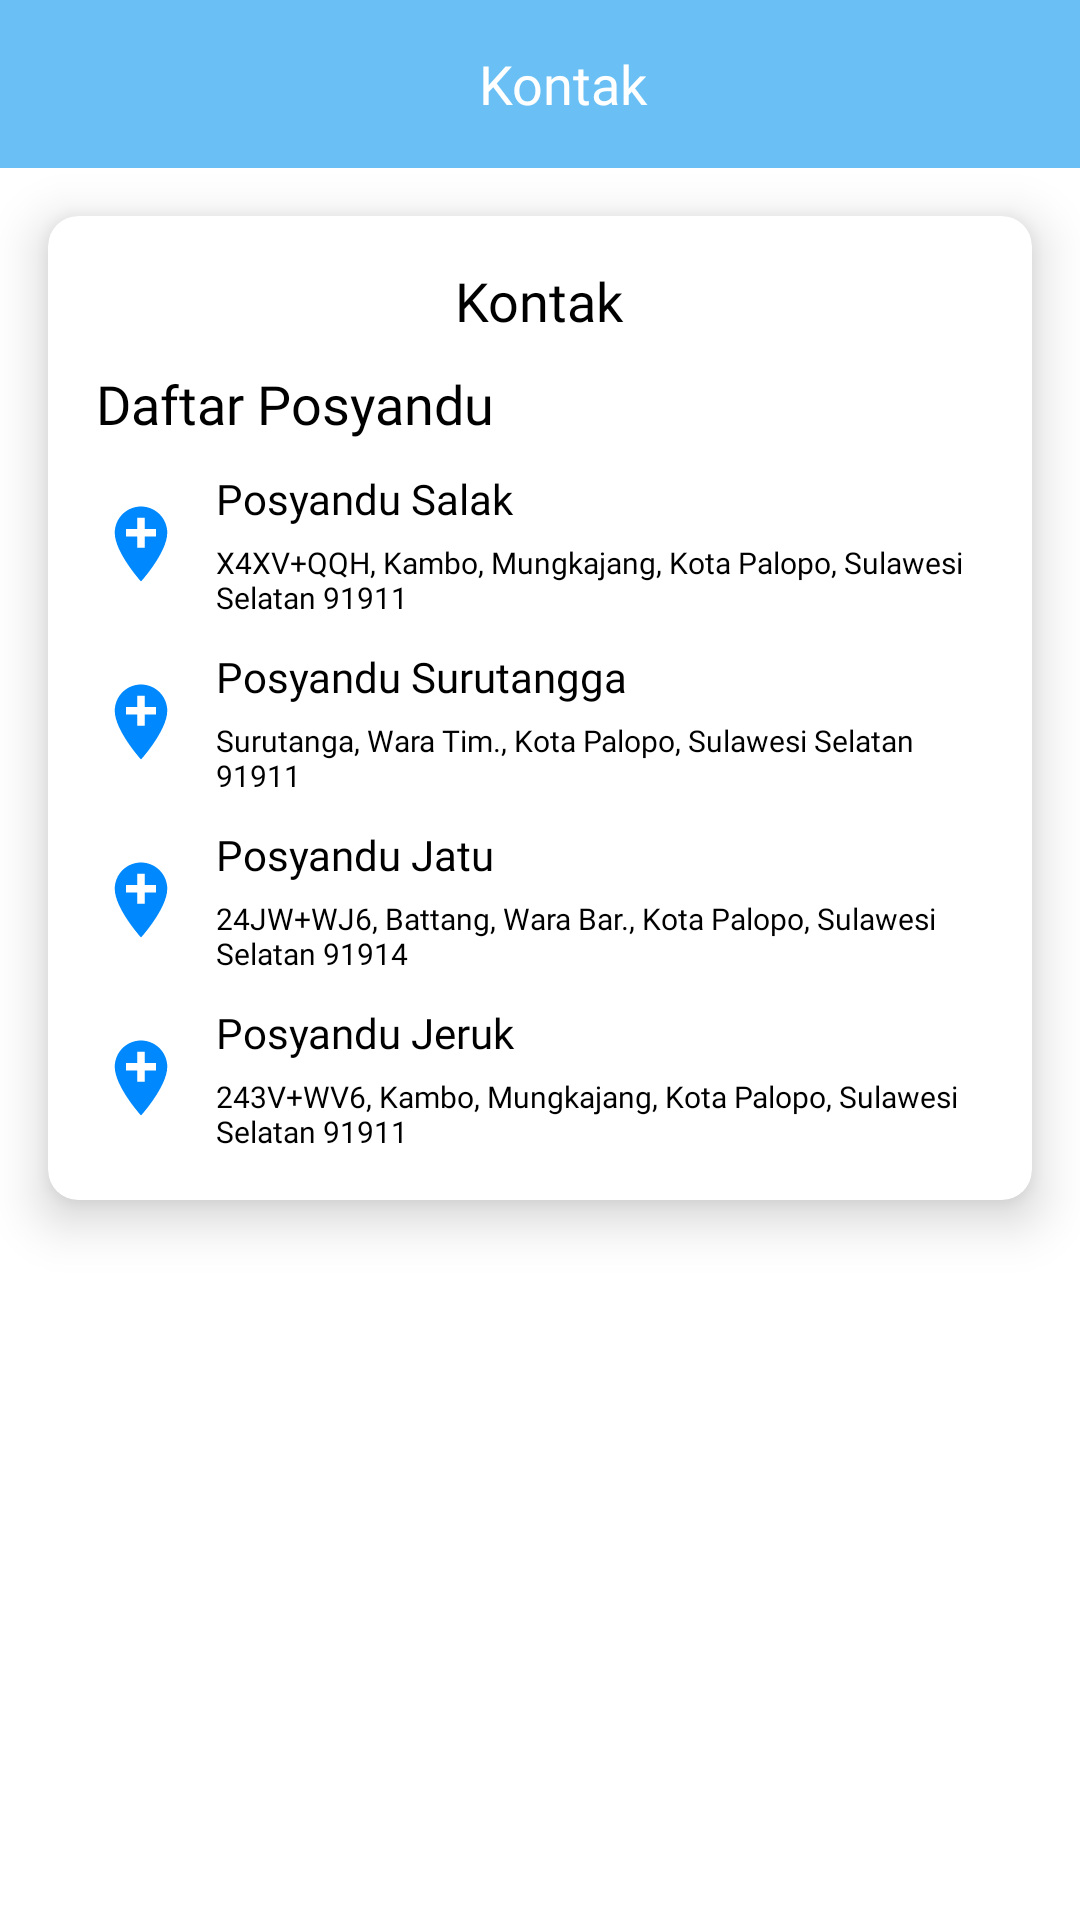

Named icons in this screenshot (1080 × 1920) and their centers, (x=x, y=y):
add location: (x=141, y=543), (x=141, y=721), (x=141, y=899), (x=141, y=1077)
